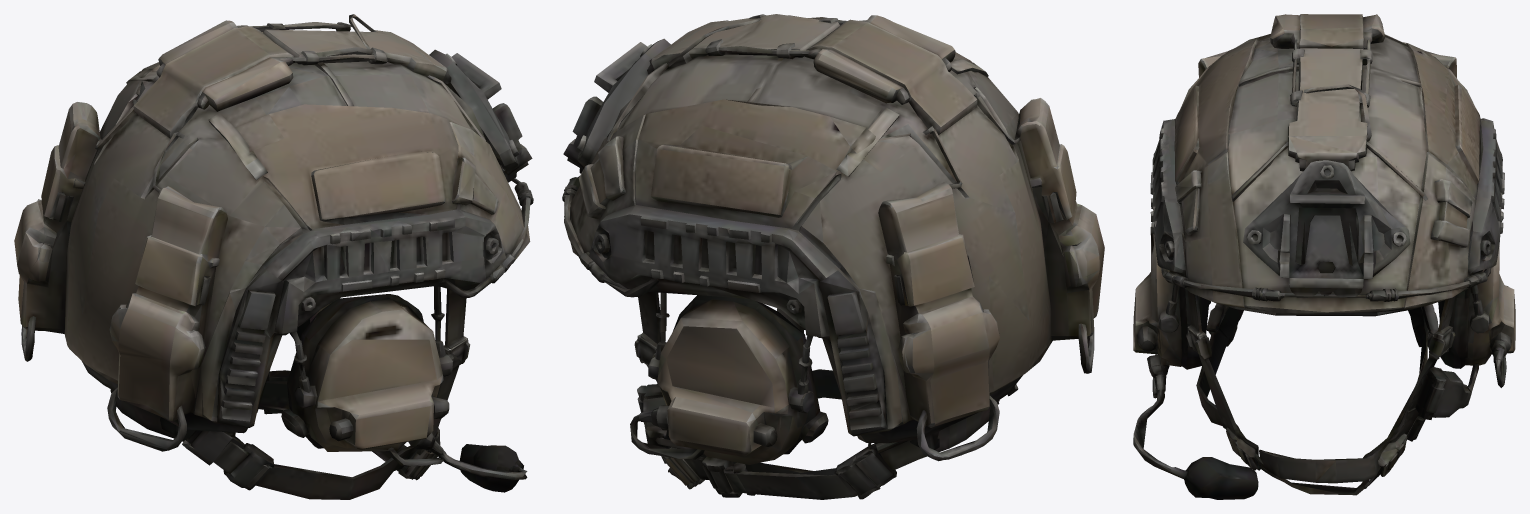
File: prop_helmet.bbcd7812ae.glb
The picture shows the model from 3 angles, left to right: view 1: azimuth 30°, elevation 25°; view 2: azimuth 150°, elevation 25°; view 3: azimuth 270°, elevation 25°; orthographic projection. The views are drawn at different scales.
Parts seen in each view (by area): view 1: Object_4; view 2: Object_4; view 3: Object_4.
Part boxes in pixels (x1,y1,x2,y2): Object_4: (14, 14, 533, 499); Object_4: (562, 14, 1104, 499); Object_4: (1133, 14, 1515, 499).
Size of the model in its own units: 0.998 by 0.9907 by 0.8457.
Materials: 1 (1 with a texture image).
